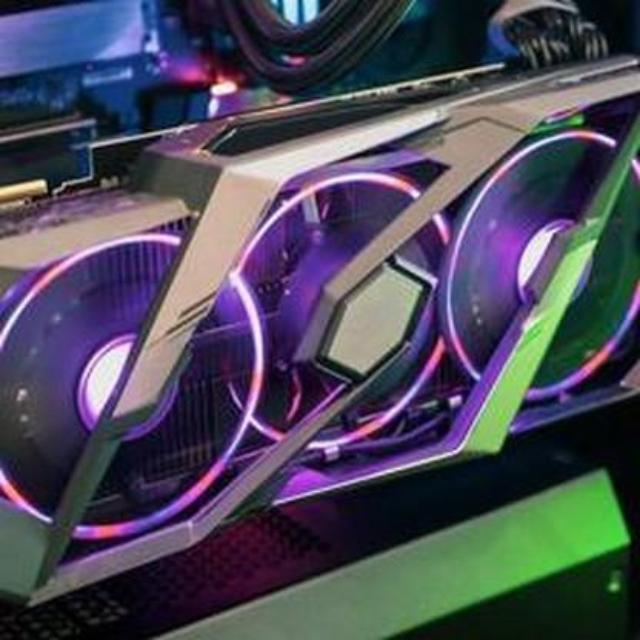GPU: (0, 60, 640, 615)
